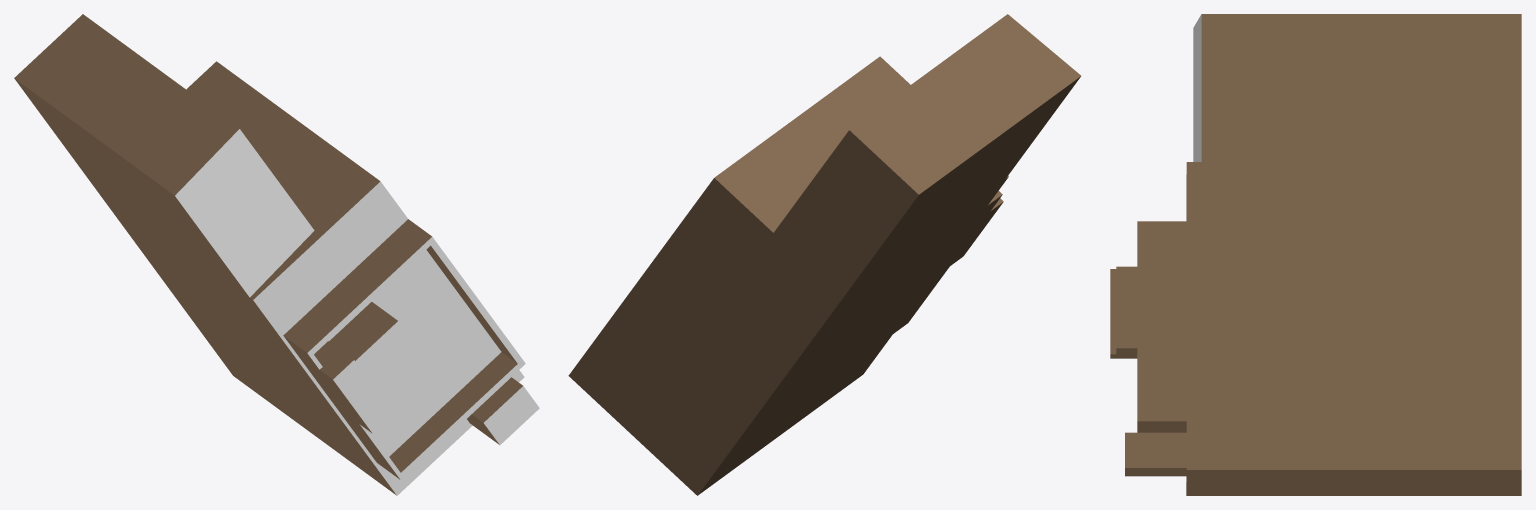
3 renders of one model, left to right at view 1: azimuth 30°, elevation 25°; view 2: azimuth 150°, elevation 25°; view 3: azimuth 270°, elevation 25°, orthographic. The views are drawn at different scales.
Visible parts, largest first — view 1: City_PC-08709; view 2: City_PC-08709; view 3: City_PC-08709.
Boxes of the visible parts, x1,y1,x2,y2 form: City_PC-08709: [14, 14, 539, 495]; City_PC-08709: [568, 14, 1080, 495]; City_PC-08709: [1110, 14, 1521, 495].
Size of the model in its own units: 1618 by 1778 by 1629.
